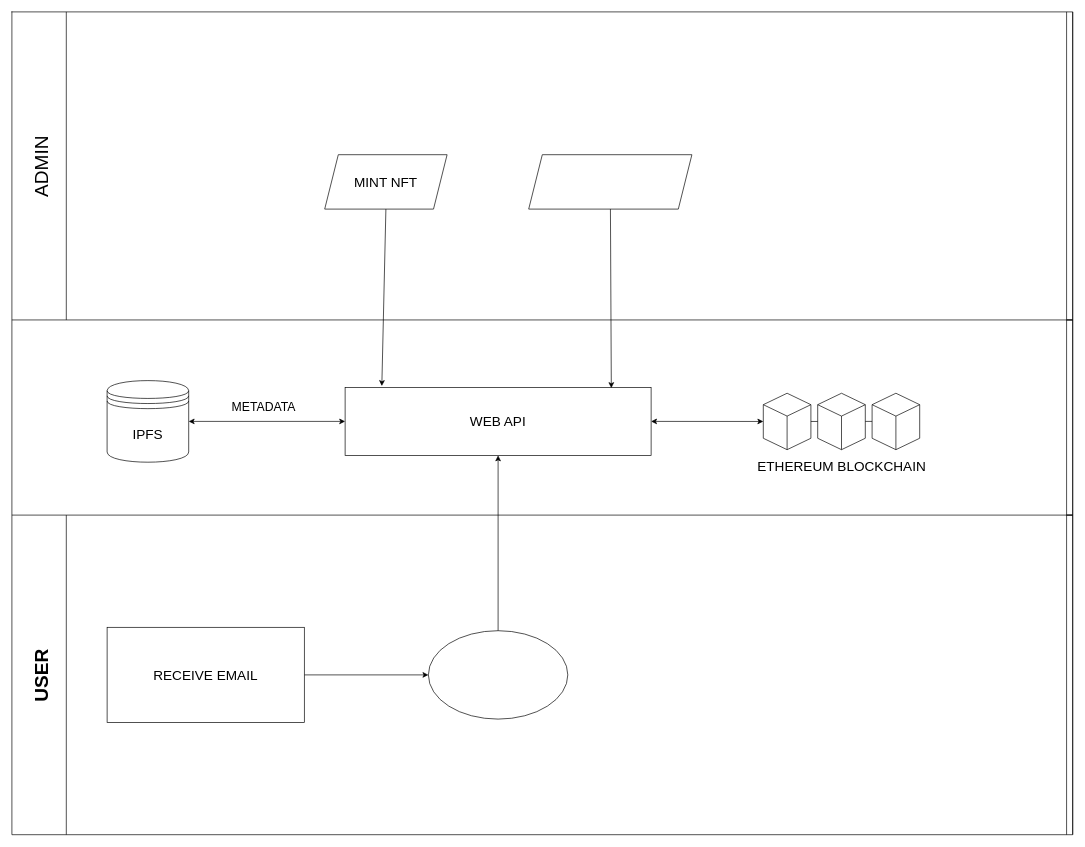
Image size: 1085x847. Some labels were removed from this diagram. Here are the shapes that lost their labels. From the top down, the centre of each, then its label:
At point 610,181: "TRANSFER NFT".
At point 498,674: "CLAIM NFT".
